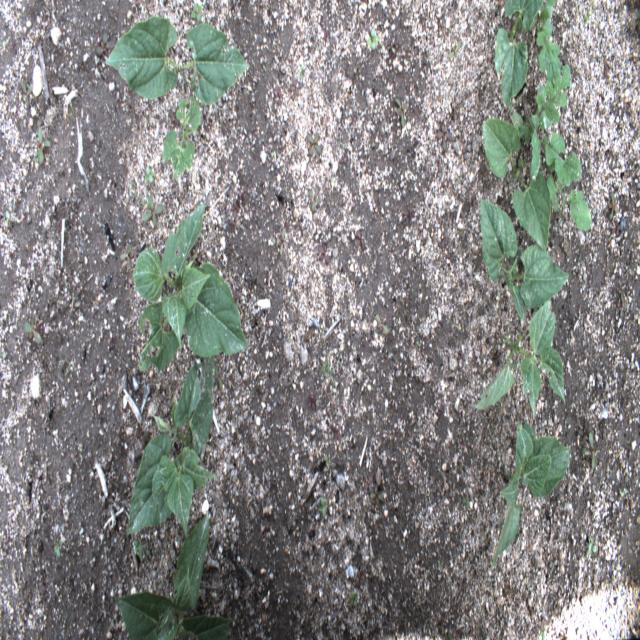crop: (132, 203, 247, 371), (123, 355, 218, 537), (115, 512, 239, 640), (104, 14, 253, 106), (492, 413, 573, 565), (474, 306, 567, 428), (479, 195, 570, 317), (481, 117, 552, 251), (494, 0, 544, 112), (161, 93, 201, 181)
weed: (509, 66, 584, 217), (535, 3, 562, 85), (561, 192, 592, 239), (319, 338, 342, 391), (579, 429, 602, 474), (137, 192, 164, 228), (23, 308, 49, 342), (34, 121, 51, 166), (614, 484, 638, 513), (393, 93, 412, 129), (436, 117, 454, 153), (93, 32, 116, 59), (304, 130, 324, 158), (277, 224, 291, 263), (231, 184, 247, 218), (350, 227, 370, 254), (365, 22, 382, 53), (306, 186, 323, 217), (313, 495, 330, 524), (376, 308, 394, 334), (316, 241, 332, 270), (118, 242, 132, 274), (369, 479, 386, 504), (306, 383, 323, 408), (52, 355, 72, 375), (320, 22, 340, 42), (610, 220, 632, 237), (402, 208, 418, 231), (587, 534, 602, 558), (448, 39, 464, 61), (132, 542, 146, 567), (328, 422, 342, 447), (581, 7, 596, 30), (51, 535, 66, 557), (336, 136, 348, 163), (20, 78, 36, 98), (143, 164, 156, 188), (618, 292, 628, 323), (2, 206, 14, 231), (273, 82, 283, 111), (31, 535, 43, 557), (71, 441, 83, 463), (294, 64, 307, 84), (319, 452, 330, 475), (345, 590, 359, 608), (369, 520, 383, 538), (345, 112, 356, 134), (248, 124, 260, 144), (0, 344, 13, 362), (269, 145, 279, 168), (608, 198, 617, 223), (216, 365, 224, 393), (258, 56, 268, 76), (191, 3, 203, 19), (342, 446, 352, 464), (462, 492, 471, 512), (67, 97, 76, 113), (412, 338, 422, 352), (536, 629, 548, 637)
